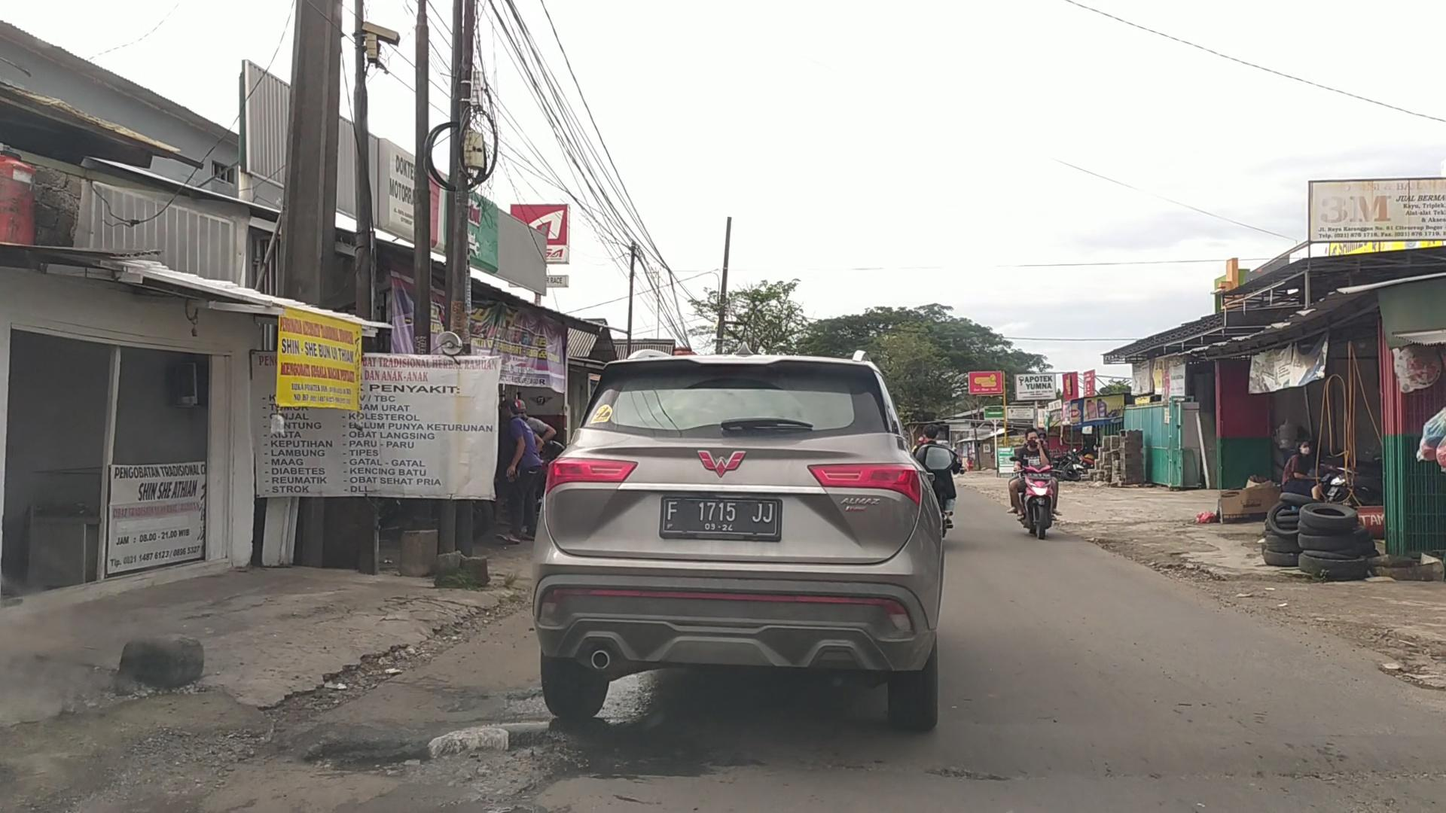pothole: (294, 722, 614, 797)
